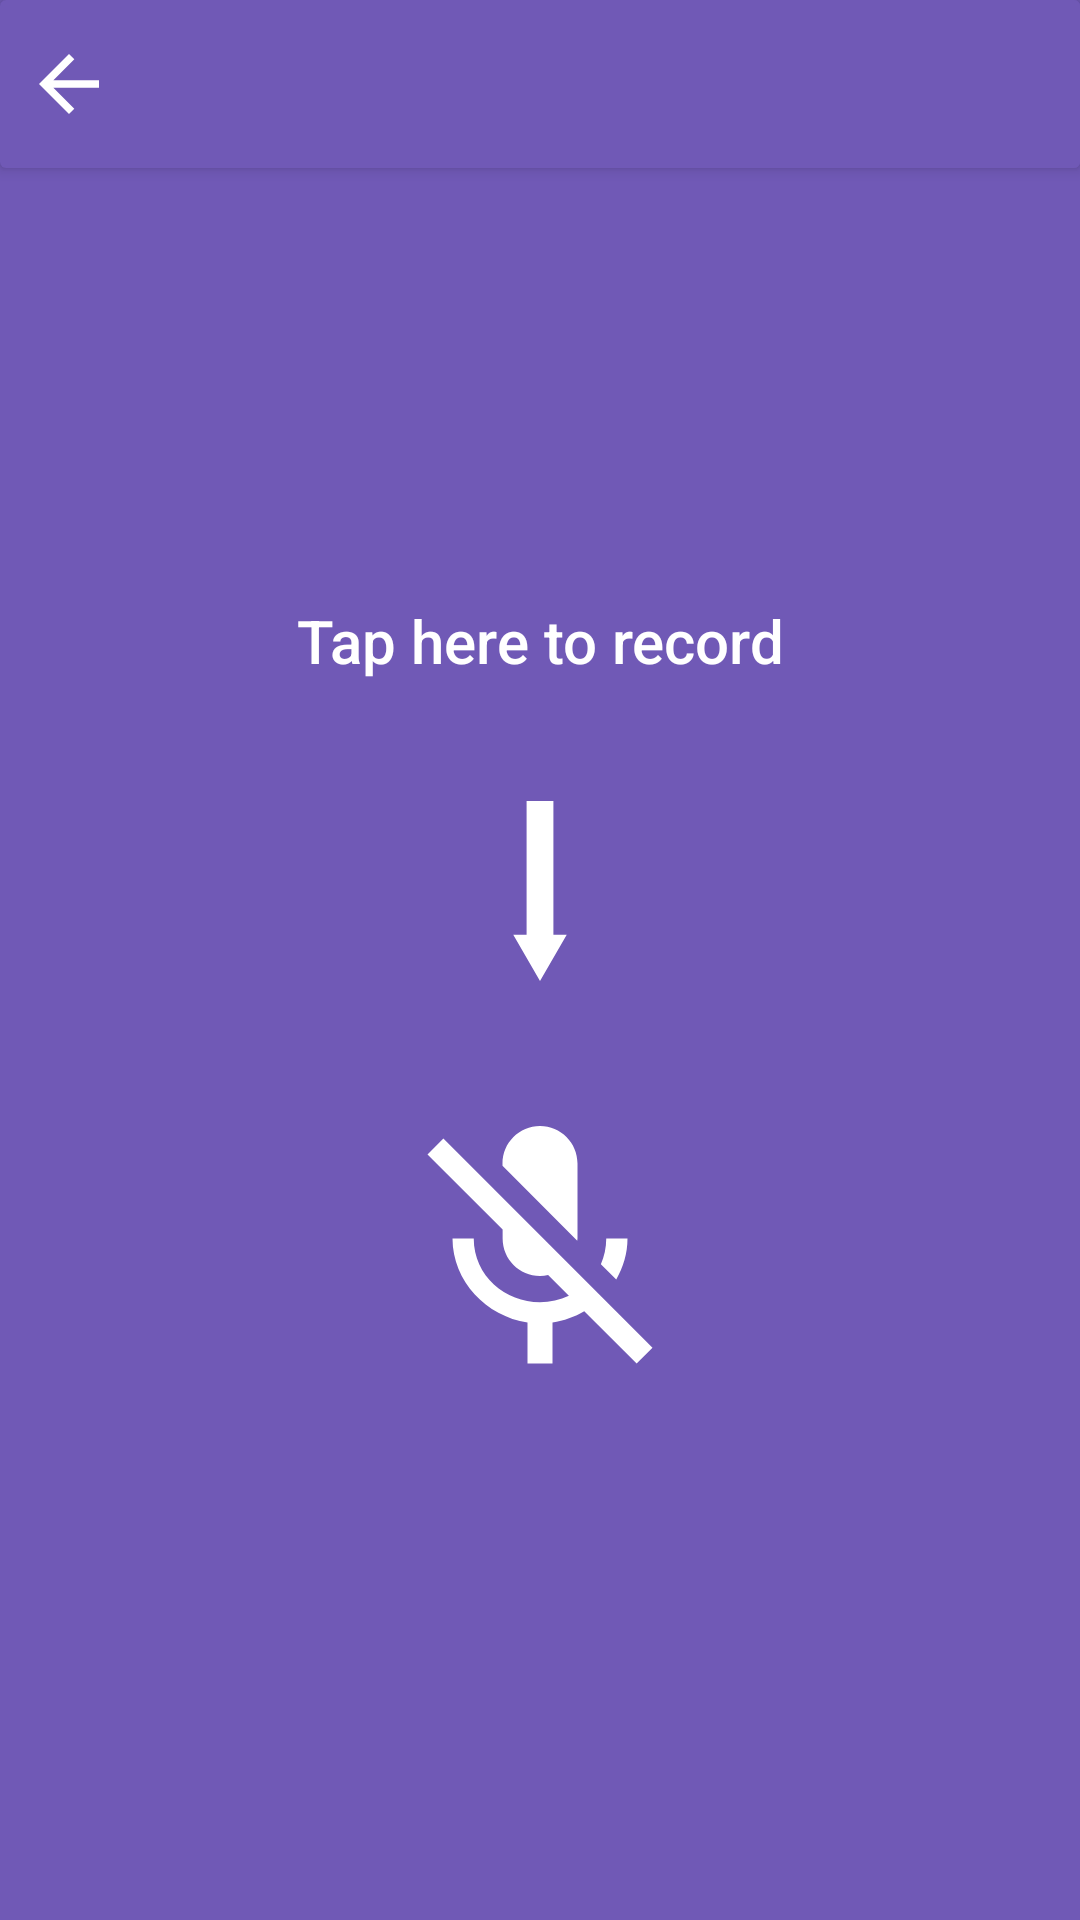

Named icons in this screenshot (1080px x 1920px) and their bounding boxes, (x1, y1, x2, y2):
back arrow: (39, 54, 99, 114)
down arrow: (513, 801, 567, 981)
mic off: (427, 1126, 653, 1364)
